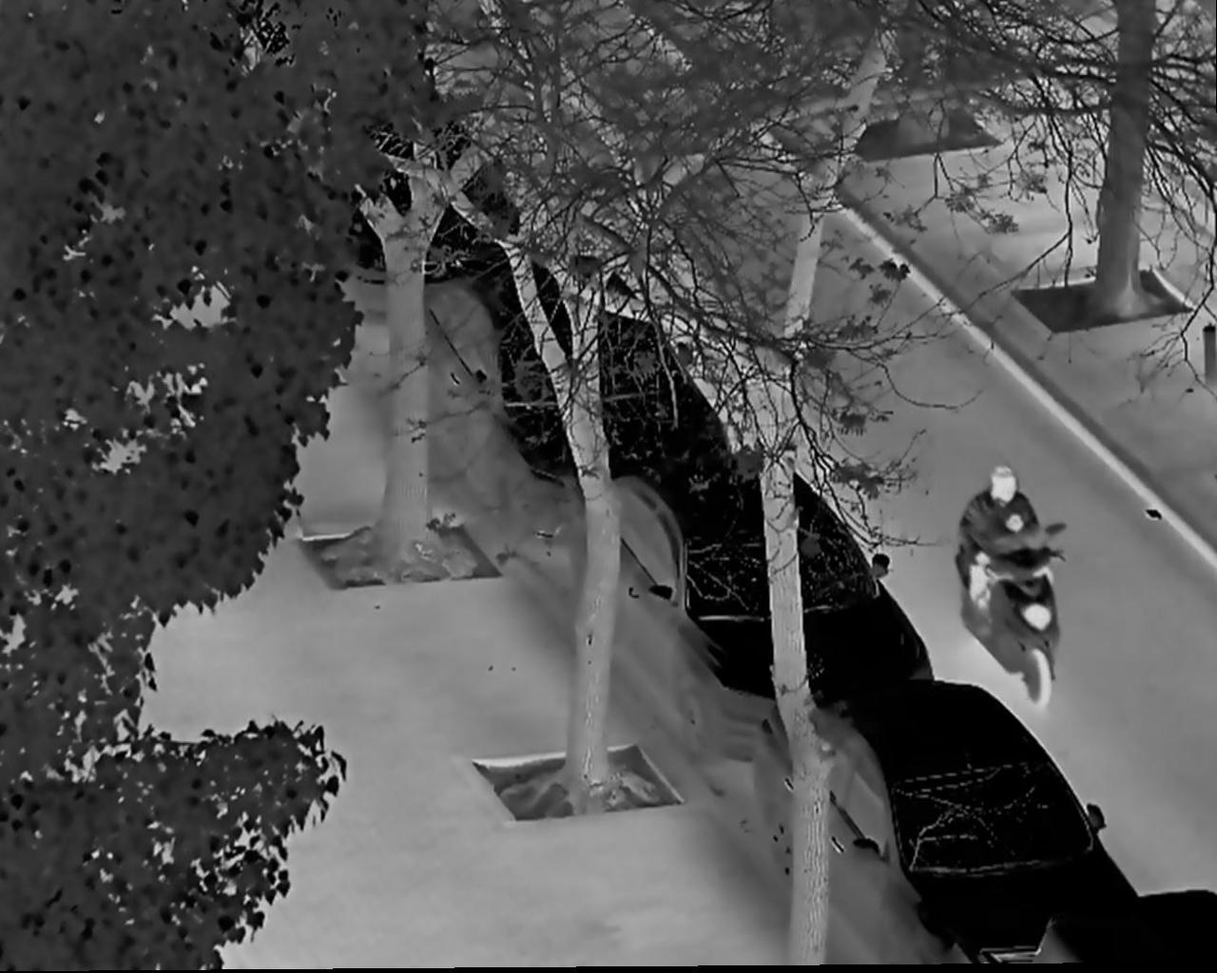person: (961, 463, 1049, 639)
